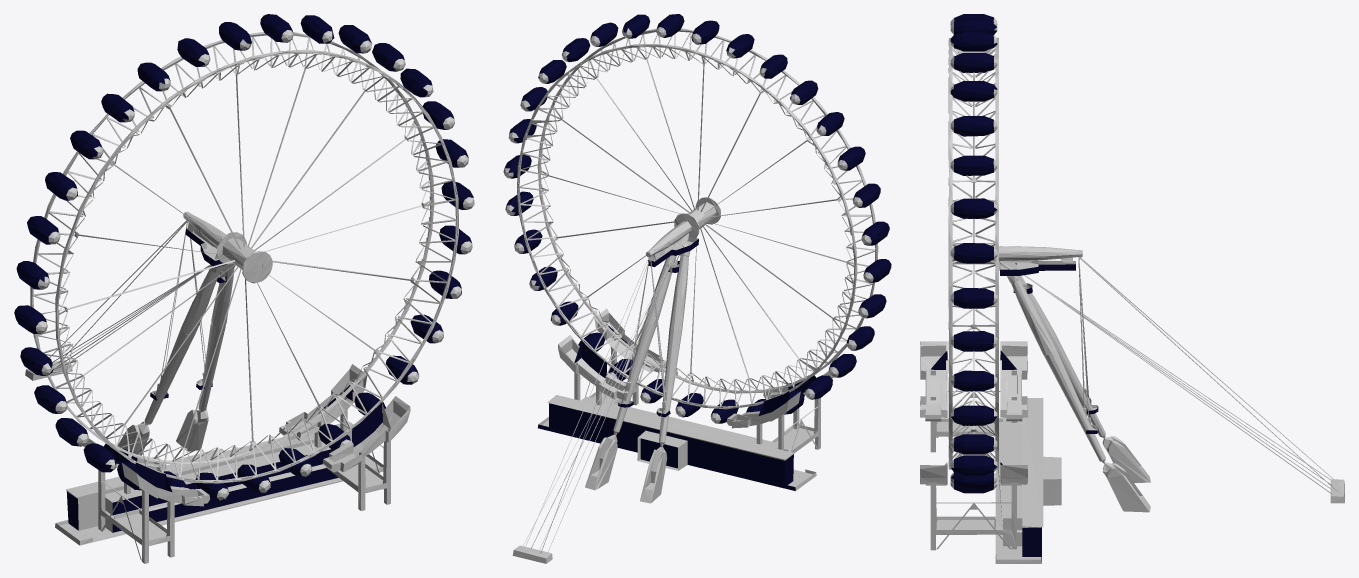
Rendered from UK_london_eye.obj.
3 renders of one model, left to right at view 1: azimuth 30°, elevation 25°; view 2: azimuth 150°, elevation 25°; view 3: azimuth 270°, elevation 25°, orthographic. The views are drawn at different scales.
Visible parts, largest first — view 1: London_Eye_MAT_LOW_c_skp147-auto, London_Eye_MAT_LOW_c_skp147-auto1; view 2: London_Eye_MAT_LOW_c_skp147-auto, London_Eye_MAT_LOW_c_skp147-auto1; view 3: London_Eye_MAT_LOW_c_skp147-auto, London_Eye_MAT_LOW_c_skp147-auto1.
Boxes of the visible parts, box(x1,y1,x2,y2) form: London_Eye_MAT_LOW_c_skp147-auto: box(25, 30, 474, 563); London_Eye_MAT_LOW_c_skp147-auto1: box(14, 14, 473, 532); London_Eye_MAT_LOW_c_skp147-auto: box(503, 27, 878, 563); London_Eye_MAT_LOW_c_skp147-auto1: box(504, 14, 891, 490); London_Eye_MAT_LOW_c_skp147-auto: box(920, 17, 1344, 563); London_Eye_MAT_LOW_c_skp147-auto1: box(931, 14, 1098, 561).
Bounding box in the file's own units: 134 × 142 × 119.
